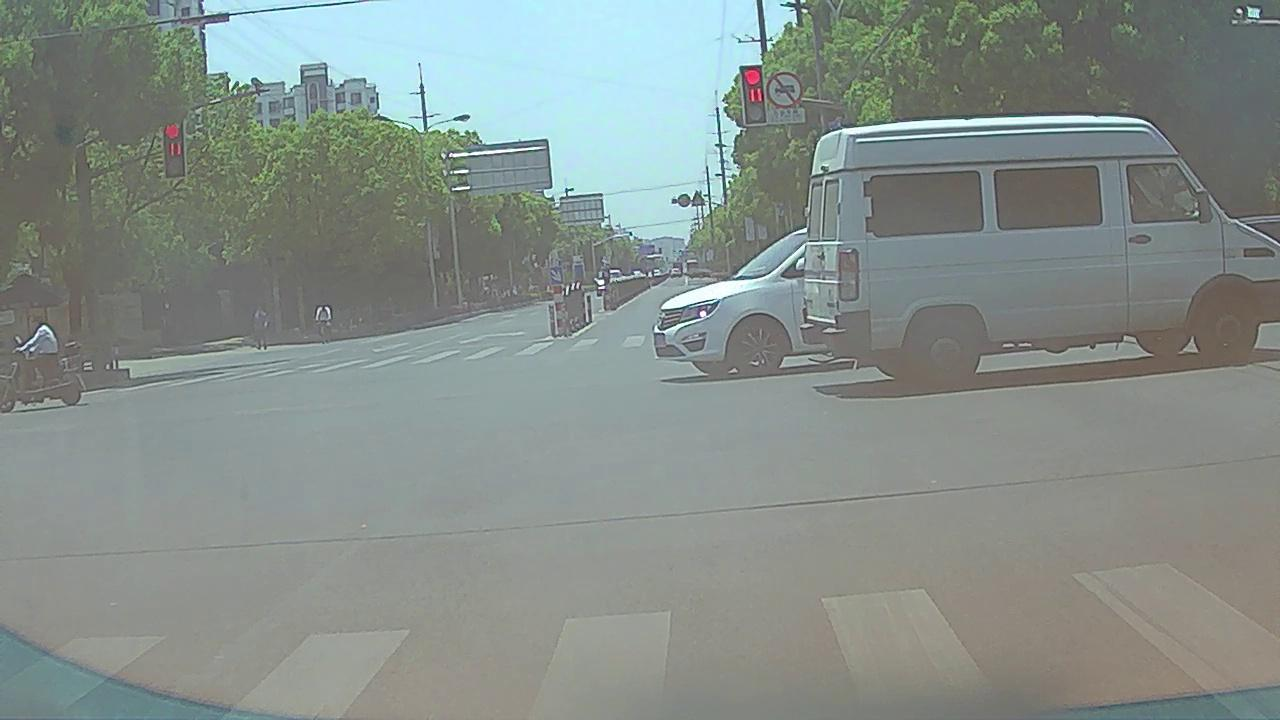traffic_light: (741, 66, 766, 125), (164, 120, 185, 179)
